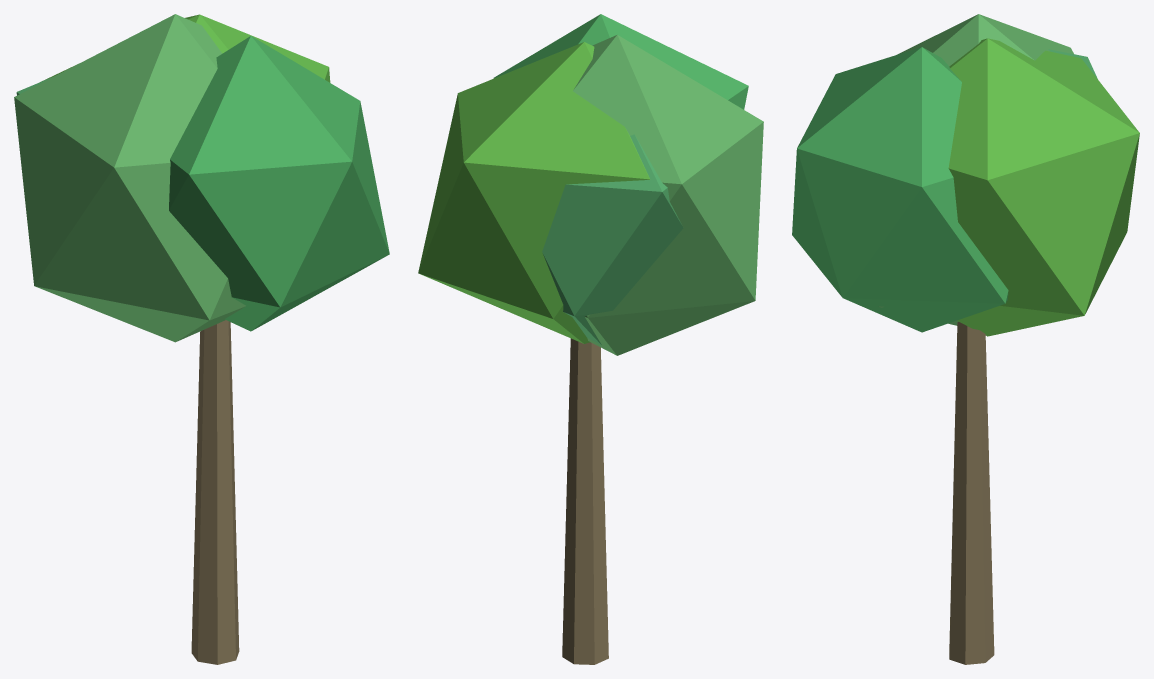
The model's file is tree.glb.
3 views of the same model, side by side, from view 1: azimuth 30°, elevation 25°; view 2: azimuth 150°, elevation 25°; view 3: azimuth 270°, elevation 25° (orthographic). The views are drawn at different scales.
Visible parts, largest first — view 1: TreeLeaves_0, TreeLeaves_1, TreeTrunk, TreeLeaves_2; view 2: TreeLeaves_2, TreeLeaves_0, TreeLeaves_3, TreeTrunk, TreeLeaves_1; view 3: TreeLeaves_2, TreeLeaves_1, TreeTrunk, TreeLeaves_0.
Part boxes in pixels (left/top/right/bottom): TreeLeaves_0: left=14, top=14, right=245, bottom=342; TreeLeaves_1: left=169, top=36, right=389, bottom=331; TreeTrunk: left=191, top=320, right=239, bottom=664; TreeLeaves_2: left=41, top=14, right=330, bottom=82; TreeLeaves_2: left=418, top=42, right=649, bottom=343; TreeLeaves_0: left=573, top=34, right=763, bottom=355; TreeLeaves_3: left=542, top=134, right=683, bottom=345; TreeTrunk: left=562, top=338, right=608, bottom=664; TreeLeaves_1: left=493, top=14, right=748, bottom=109; TreeLeaves_2: left=948, top=38, right=1139, bottom=336; TreeLeaves_1: left=792, top=47, right=1008, bottom=332; TreeTrunk: left=949, top=322, right=994, bottom=664; TreeLeaves_0: left=878, top=14, right=1073, bottom=325.
Size of the model in its own units: 2.14 by 4.42 by 2.23.
